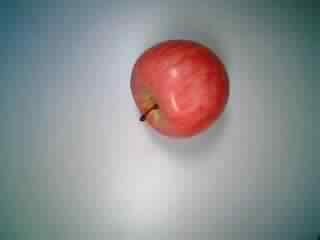apple: (126, 37, 231, 139)
